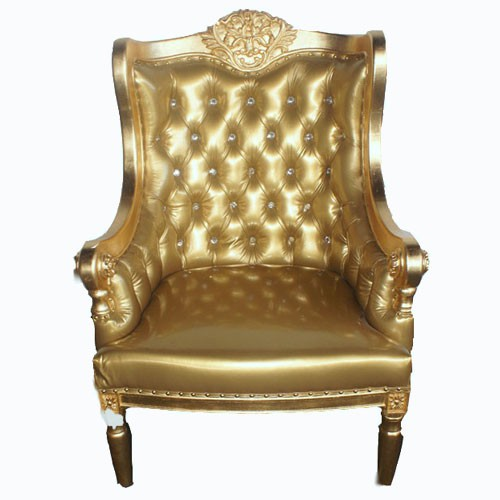chairs: (67, 9, 434, 497)
